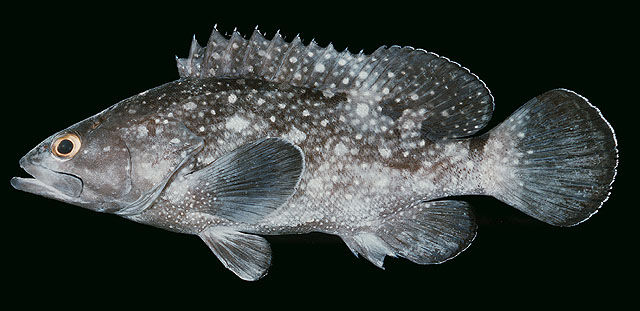fish: (11, 22, 619, 282)
